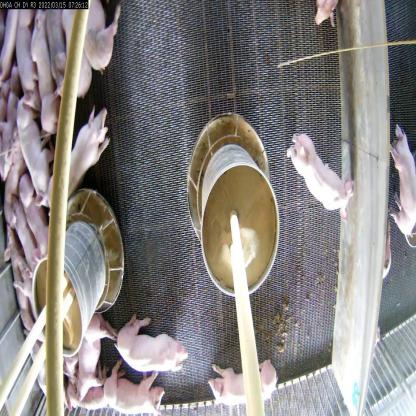Pig: (48, 106, 113, 207), (286, 134, 352, 216), (114, 307, 185, 378), (15, 86, 57, 201), (72, 310, 118, 394), (211, 359, 280, 415), (104, 369, 171, 416), (14, 170, 51, 252), (8, 195, 37, 264)
